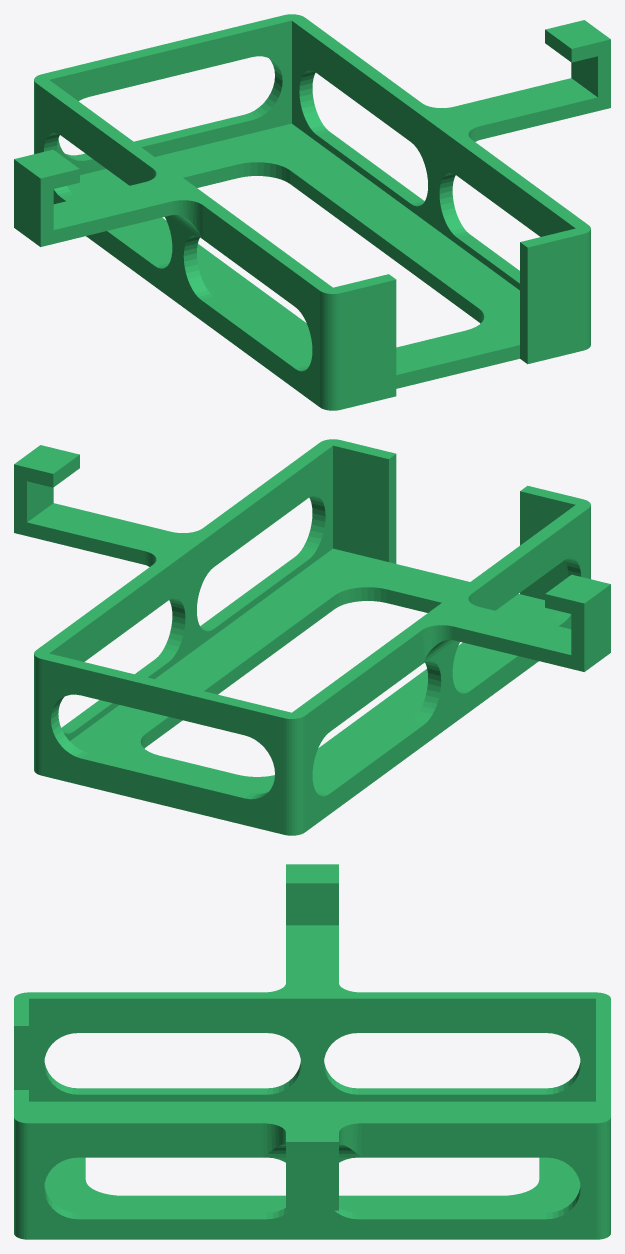
The model's file is LipoCage.glb.
3 views of the same model, one above another, from view 1: azimuth 30°, elevation 25°; view 2: azimuth 150°, elevation 25°; view 3: azimuth 270°, elevation 25° (orthographic).
Parts seen in each view (by area): view 1: LipoCage.stl; view 2: LipoCage.stl; view 3: LipoCage.stl.
Boxes of the visible parts, x1,y1,x2,y2 form: LipoCage.stl: [14, 14, 610, 410]; LipoCage.stl: [14, 439, 610, 835]; LipoCage.stl: [14, 864, 610, 1239].
Bounding box in the file's own units: 87 × 25 × 79.
